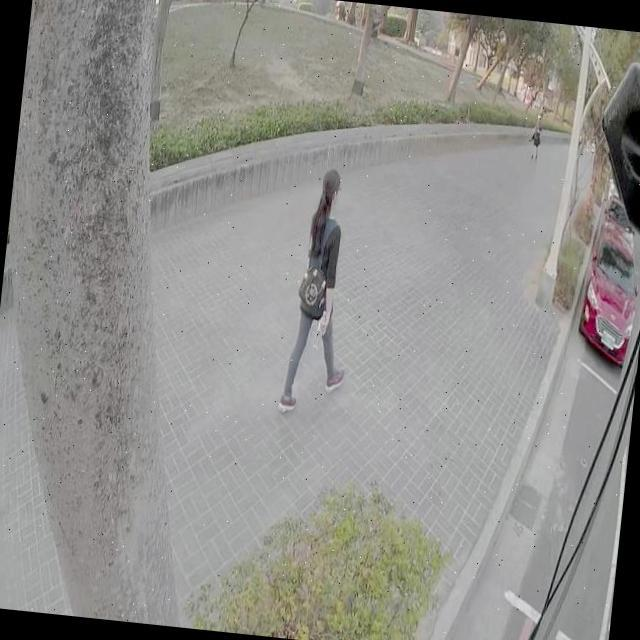person: (278, 167, 364, 412), (532, 117, 542, 154)
